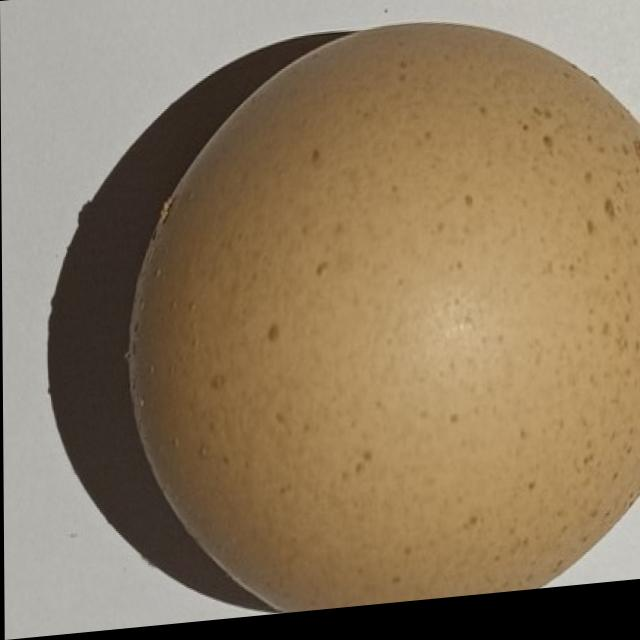unfresh: (120, 0, 640, 631)
